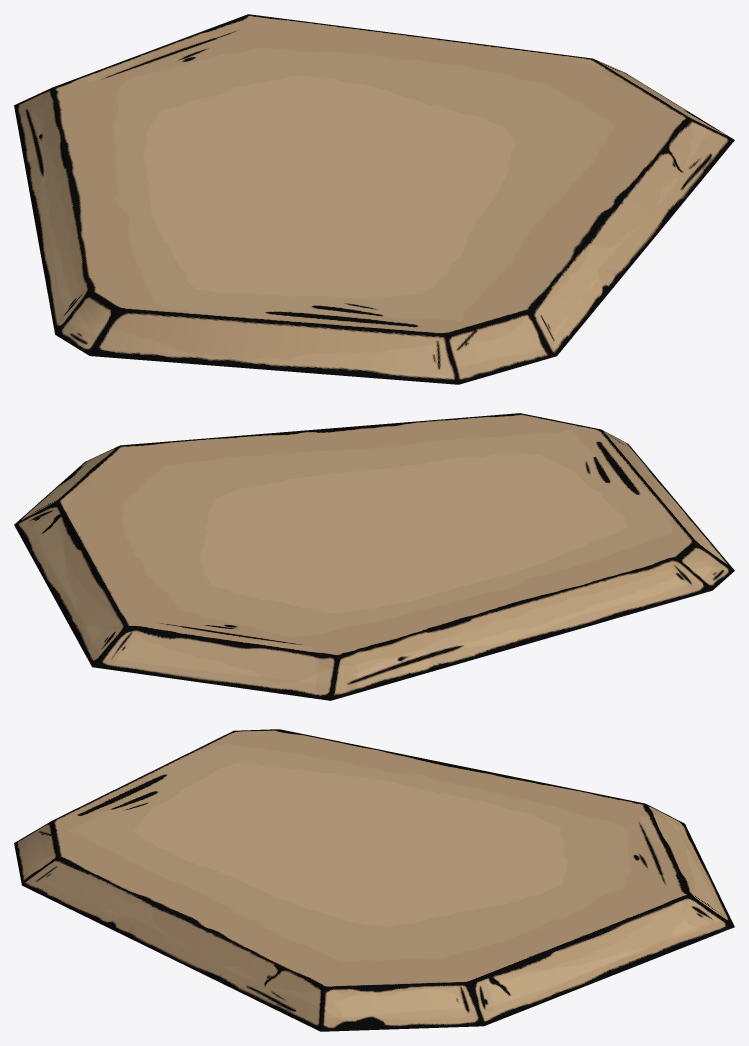
The model's file is StepSteen 2.fbx.
The picture shows the model from 3 angles, top to bottom: view 1: azimuth 30°, elevation 25°; view 2: azimuth 150°, elevation 25°; view 3: azimuth 270°, elevation 25°; orthographic projection. The views are drawn at different scales.
Visible parts, largest first — view 1: Cube.008; view 2: Cube.008; view 3: Cube.008.
Part boxes in pixels (x1=…): Cube.008: x1=14, y1=14, x2=734, y2=384; Cube.008: x1=14, y1=413, x2=734, y2=700; Cube.008: x1=14, y1=729, x2=734, y2=1031.
Bounding box in the file's own units: 61.42 × 2.58 × 64.05.
